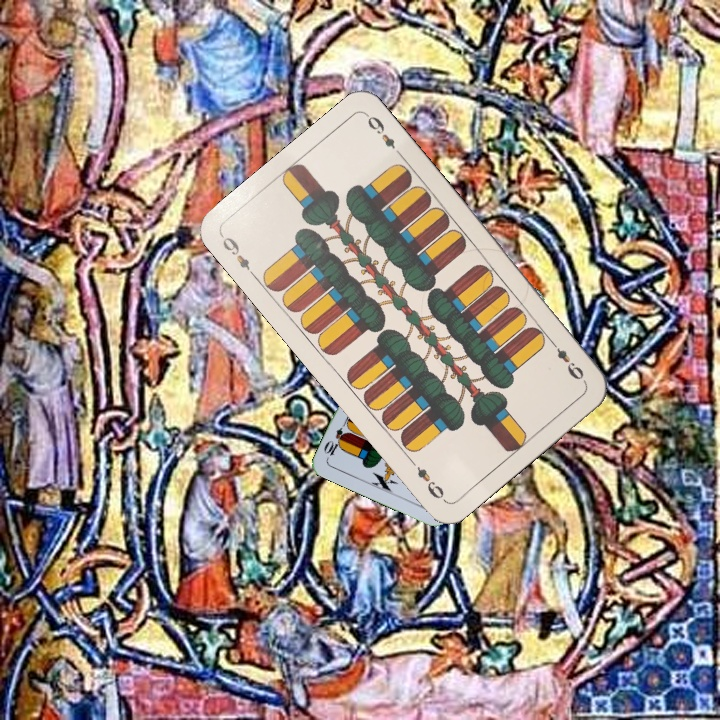E9: (217, 231, 259, 281), (546, 335, 587, 383)
